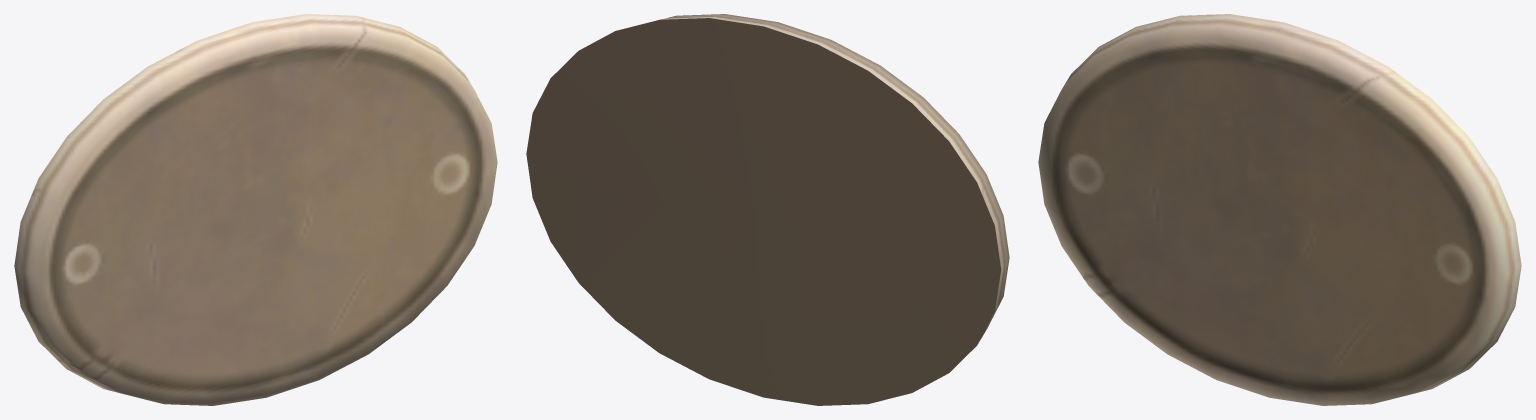
Rendered from Garden_Number_Plate.FBX.
The picture shows the model from 3 angles, left to right: view 1: azimuth 30°, elevation 25°; view 2: azimuth 150°, elevation 25°; view 3: azimuth 330°, elevation 25°; orthographic projection.
Visible parts, largest first — view 1: Garden_Number_Plate; view 2: Garden_Number_Plate; view 3: Garden_Number_Plate.
Boxes of the visible parts, x1,y1,x2,y2 form: Garden_Number_Plate: [14, 14, 497, 405]; Garden_Number_Plate: [526, 14, 1009, 405]; Garden_Number_Plate: [1038, 14, 1521, 405].
Size of the model in its own units: 19.27 by 14.4 by 1.03.
